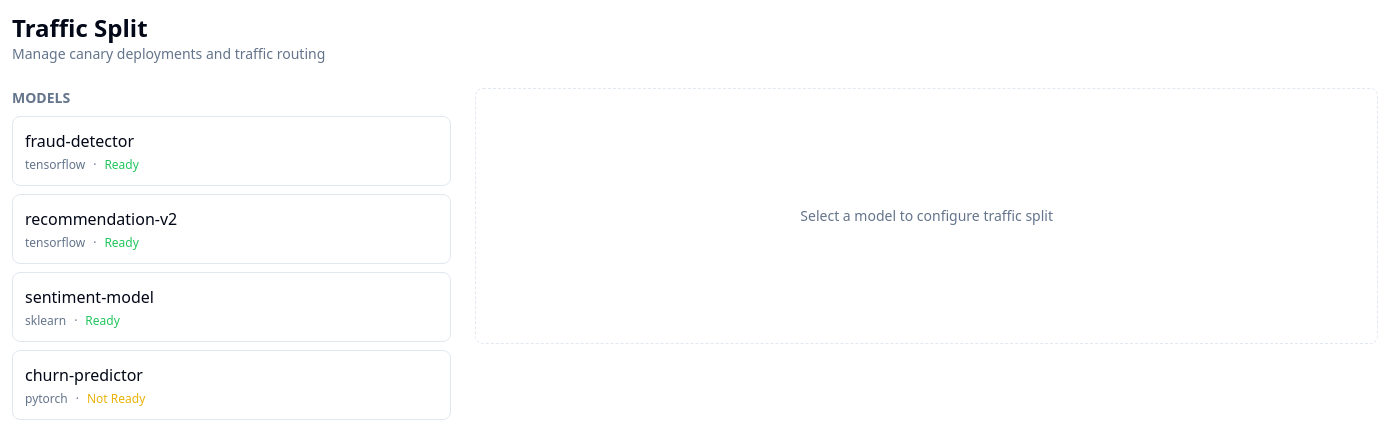
it: TrafficSplitPage › shows traffic slider when a model is selected
Click the text "fraud-detector" at (80, 141), box [25,130,134,152]
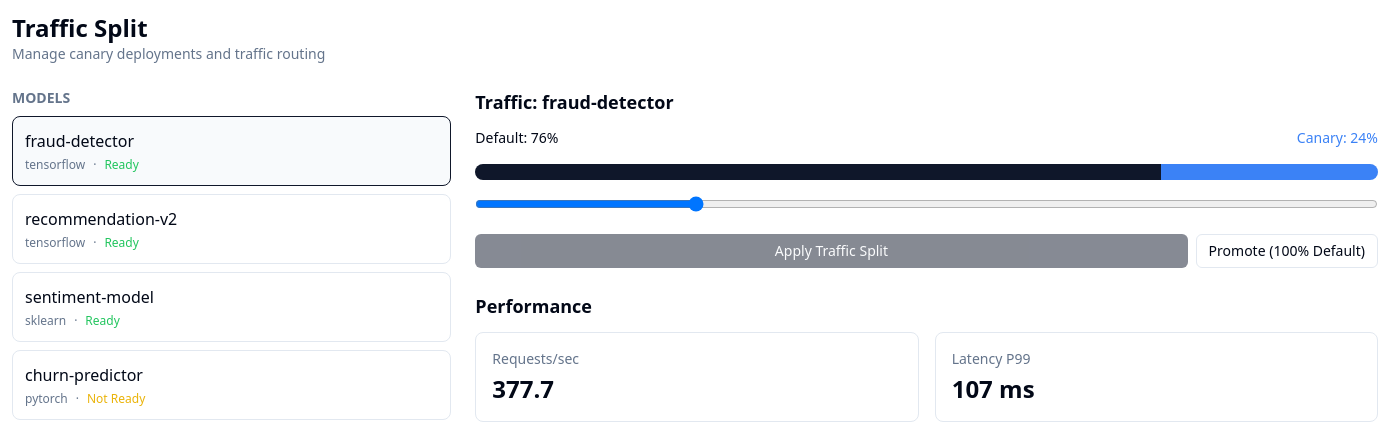
Now the heading "Traffic: fraud-detector" is shown, box [475,90,674,114]
Now the heading "Performance" is shown, box [475,294,592,318]
